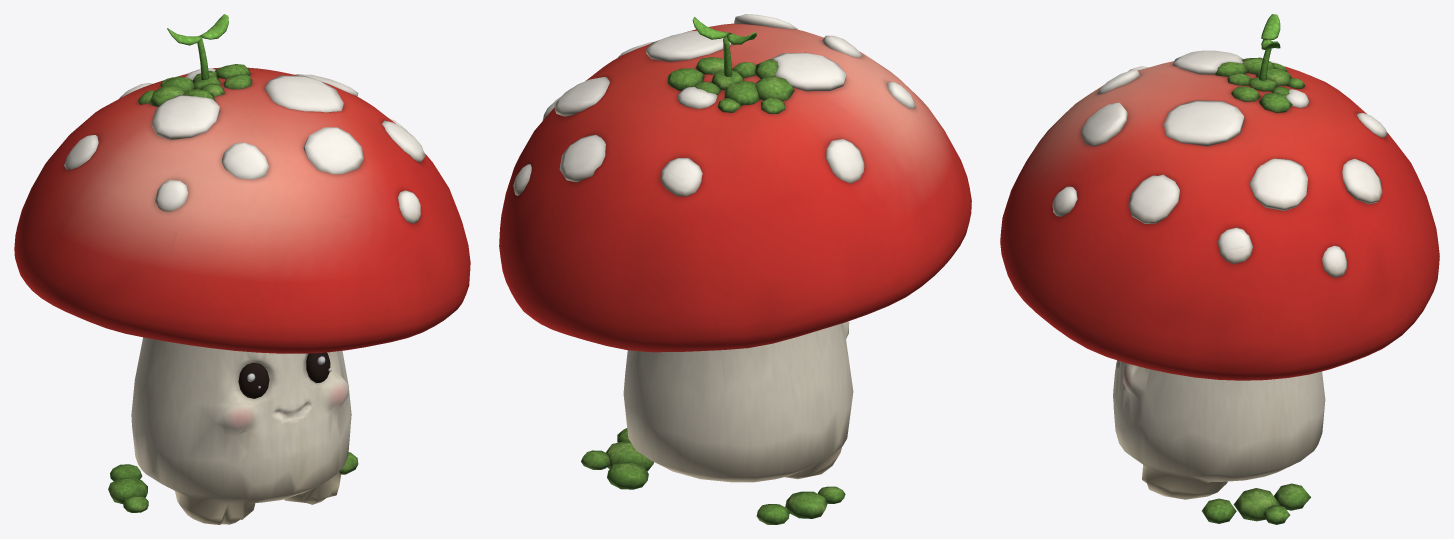
File: mushroom.fbx
3 views of the same model, side by side, from view 1: azimuth 30°, elevation 25°; view 2: azimuth 150°, elevation 25°; view 3: azimuth 270°, elevation 25° (orthographic). The views are drawn at different scales.
Visible parts, largest first — view 1: Mushroom_Body, Mushroom_Eyes; view 2: Mushroom_Body; view 3: Mushroom_Body.
Boxes of the visible parts, x1=… form: Mushroom_Body: x1=14, y1=14, x2=470, y2=524; Mushroom_Eyes: x1=238, y1=352, x2=330, y2=398; Mushroom_Body: x1=499, y1=14, x2=971, y2=524; Mushroom_Body: x1=1000, y1=14, x2=1439, y2=524.
Bounding box in the file's own units: 2.91 × 3.24 × 2.91.
Materials: 2 (1 with a texture image).
